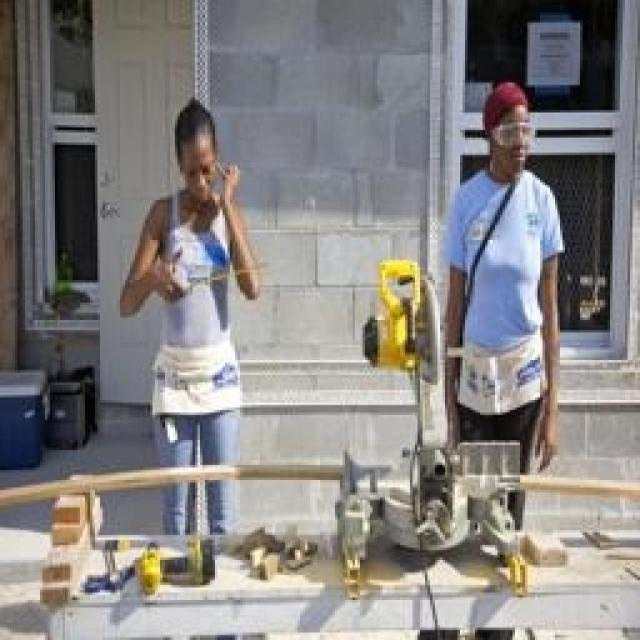Helmet: (432, 166, 584, 397), (116, 178, 260, 402), (145, 66, 245, 196), (456, 65, 548, 179)
